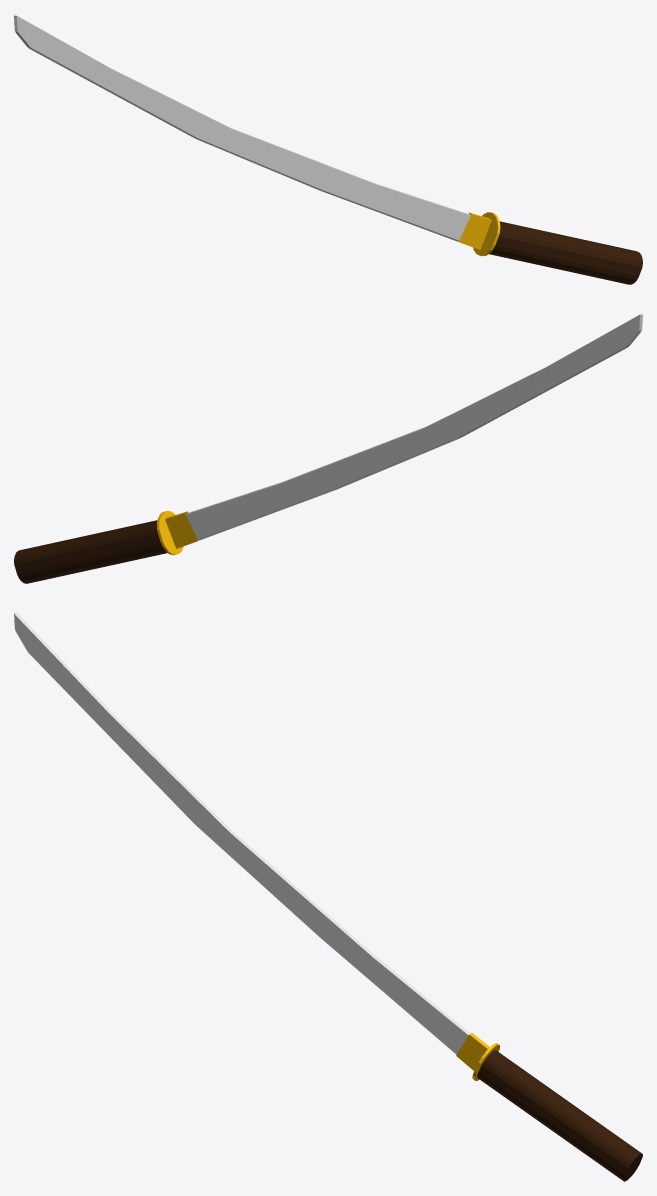
File: sword.fbx
3 renders of one model, top to bottom at view 1: azimuth 30°, elevation 25°; view 2: azimuth 150°, elevation 25°; view 3: azimuth 330°, elevation 25°, orthographic.
Parts seen in each view (by area): view 1: Plane, Circle; view 2: Plane, Circle; view 3: Plane, Circle.
Part boxes in pixels (x1,y1,x2,y2): Plane: (14,14,491,249); Circle: (473,212,642,284); Plane: (165,313,642,548); Circle: (14,511,183,583); Plane: (14,612,489,1070); Circle: (472,1043,642,1181).
Size of the model in its own units: 84.28 by 53.87 by 4.45.
